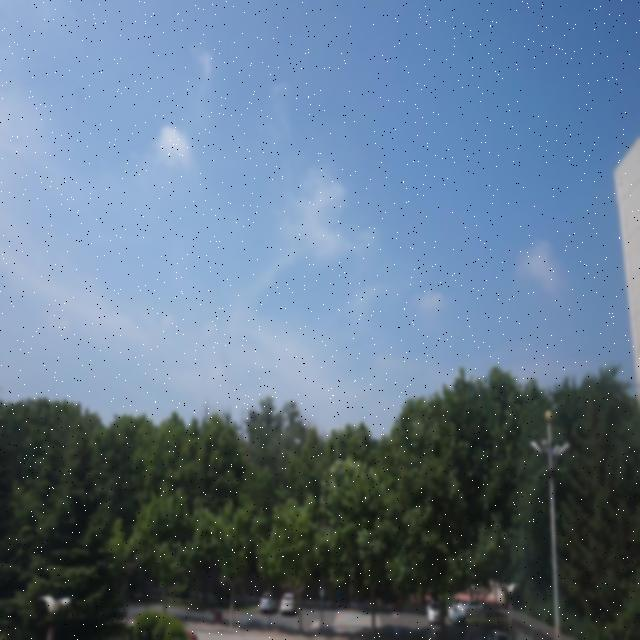UAV: (294, 439, 302, 445)
